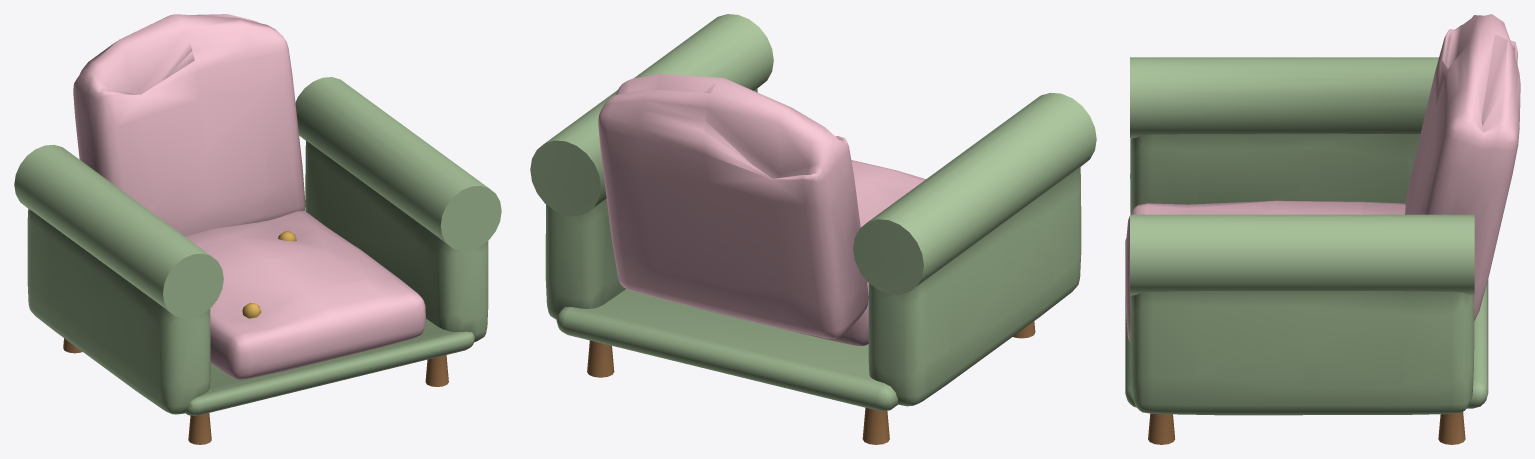
The model's file is cottagecore--floral-armchair.glb.
3 renders of one model, left to right at view 1: azimuth 30°, elevation 25°; view 2: azimuth 150°, elevation 25°; view 3: azimuth 270°, elevation 25°, orthographic. The views are drawn at different scales.
Visible parts, largest first — view 1: cottagecore--floral-armchair; view 2: cottagecore--floral-armchair; view 3: cottagecore--floral-armchair.
Boxes of the visible parts, x1,y1,x2,y2 form: cottagecore--floral-armchair: [14, 14, 501, 444]; cottagecore--floral-armchair: [530, 14, 1096, 444]; cottagecore--floral-armchair: [1125, 14, 1520, 444].
Bounding box in the file's own units: 1 × 0.8229 × 0.8716.
